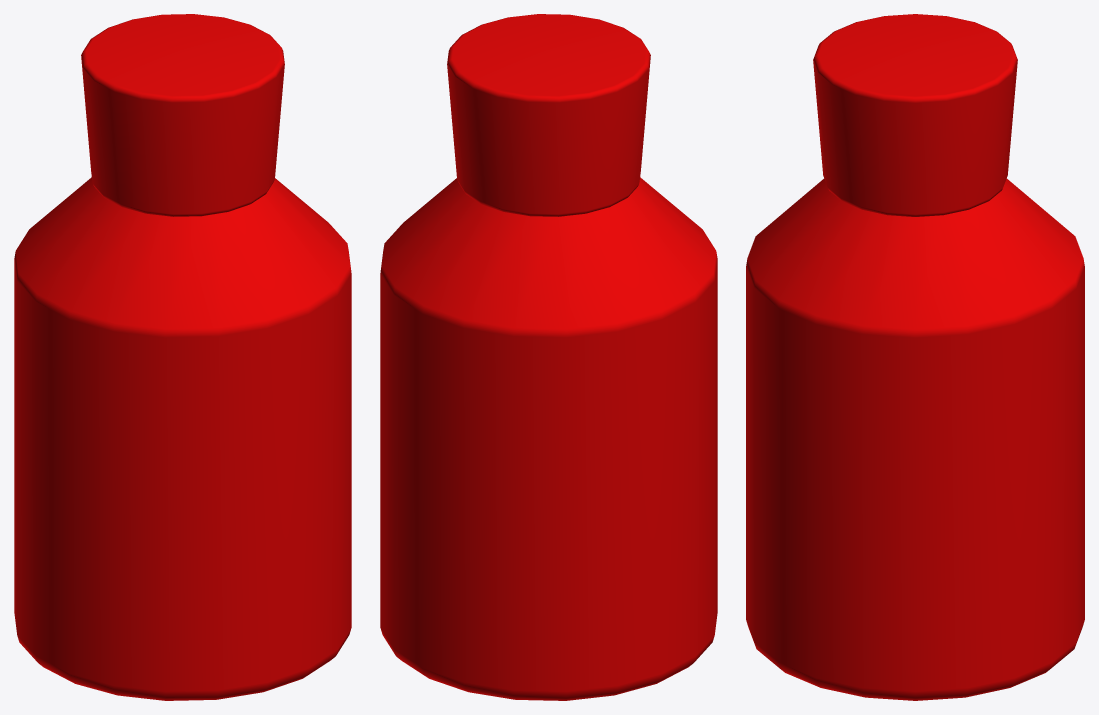
The model's file is Package_1.fbx.
3 views of the same model, side by side, from view 1: azimuth 30°, elevation 25°; view 2: azimuth 150°, elevation 25°; view 3: azimuth 270°, elevation 25° (orthographic).
Visible parts, largest first — view 1: L3:polySurface1493; view 2: L3:polySurface1493; view 3: L3:polySurface1493.
Part boxes in pixels (left/top/right/bottom): L3:polySurface1493: left=14, top=14, right=351, bottom=700; L3:polySurface1493: left=380, top=14, right=717, bottom=700; L3:polySurface1493: left=746, top=14, right=1084, bottom=700.
Bounding box in the file's own units: 9.84 × 18.69 × 9.84.
